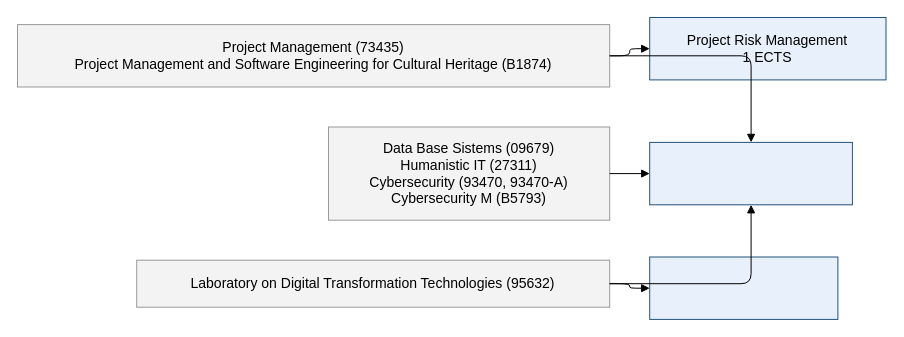
Some shapes in this 904 by 337 pixel diagram are drawn without their labels. Here are the shapes that lost their labels. From the top down, the box of each, then its label:
(649, 141, 852, 205): Project Management 6 ECTS
(649, 256, 838, 319): Digital Innovation 3 ECTS
